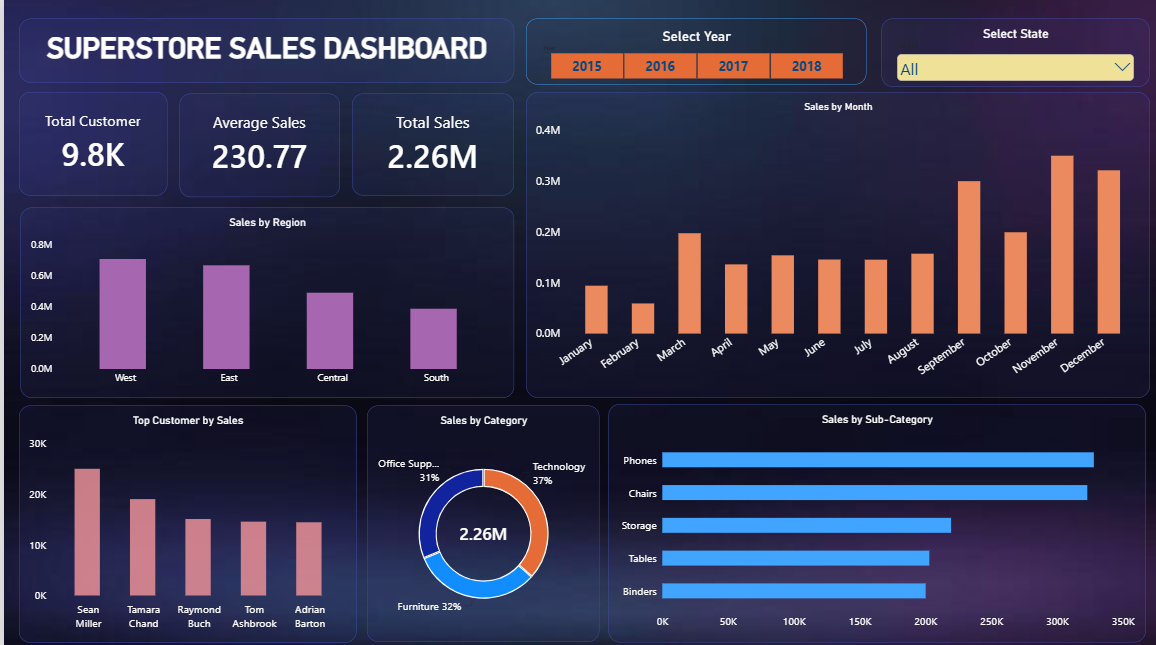

The page's visual inventory and layout, read from the dashboard file:
{"tool":"powerbi","page":{"name":"Page 1","canvas":[1920,1080],"ordinal":0},"visuals":[{"type":"columnChart","title":"Sales by Month","fields":{"Category":["Table1.Order Date.Variation.Date Hierarchy.Month"],"Y":["Sum(Table1.Sales)"]},"box":[870,155,1040,510],"z":0},{"type":"barChart","title":"Sales by Sub-Category","fields":{"Category":["Table1.Sub-Category"],"Y":["Sum(Table1.Sales)"]},"box":[1007.5,675,895,397.5],"z":1000},{"type":"donutChart","title":"Sales by Category","fields":{"Category":["Table1.Category"],"Y":["Sum(Table1.Sales)"]},"box":[605,677.5,387.5,394],"z":2000},{"type":"columnChart","title":"Sales by Region","fields":{"Category":["Table1.Region"],"Y":["Sum(Table1.Sales)"]},"box":[27.5,347.5,822.5,317.5],"z":3000},{"type":"cardVisual","fields":{"Data":["CountNonNull(Table1.Customer ID)"]},"box":[25,155,247.5,172.5],"z":4000},{"type":"cardVisual","fields":{"Data":["Avg(Table1.Sales)"]},"box":[292.5,157.5,267.5,172.5],"z":5000},{"type":"columnChart","title":"Top Customer by Sales","fields":{"Category":["Table1.Customer Name"],"Y":["Sum(Table1.Sales)"]},"box":[25,677.5,562.5,395],"z":6000},{"type":"textbox","title":"SUPERSTORE SALES DASHBOARD","box":[25,32.5,825,107.5],"z":7000},{"type":"cardVisual","fields":{"Data":["Sum(Table1.Sales)"]},"box":[580,157.5,270,170],"z":8000},{"type":"slicer","title":"Select Year","fields":{"Values":["Table1.Order Date.Variation.Date Hierarchy.Year"]},"box":[871,32.5,567.5,110],"z":9000},{"type":"slicer","title":"Select State","fields":{"Values":["Table1.State"]},"box":[1462.8,32.6,446.5,114],"z":10000}]}

Visuals, with their boxes in screenshot pixels (x1, y1, x2, y2), scaled from the page's 1920x1080 canvas onto the 1156x645 screenshot:
"Sales by Month" columnChart: box=[524, 93, 1150, 397]
"Sales by Sub-Category" barChart: box=[607, 403, 1145, 641]
"Sales by Category" donutChart: box=[364, 405, 598, 640]
"Sales by Region" columnChart: box=[17, 208, 512, 397]
cardVisual - CountNonNull(Table1.Customer ID): box=[15, 93, 164, 196]
cardVisual - Avg(Table1.Sales): box=[176, 94, 337, 197]
"Top Customer by Sales" columnChart: box=[15, 405, 354, 641]
"SUPERSTORE SALES DASHBOARD" textbox: box=[15, 19, 512, 84]
cardVisual - Sum(Table1.Sales): box=[349, 94, 512, 196]
"Select Year" slicer: box=[524, 19, 866, 85]
"Select State" slicer: box=[881, 19, 1150, 88]
